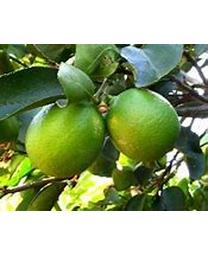lemon: (26, 100, 104, 179), (108, 90, 181, 164)
